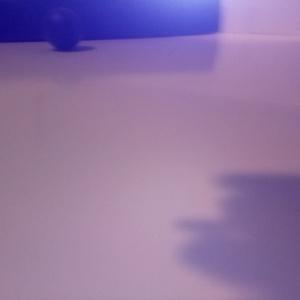dead_ball: (42, 7, 81, 49)
